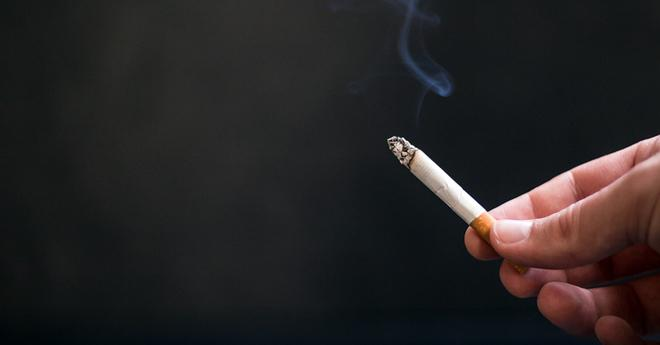smoke: (387, 136, 530, 274)
